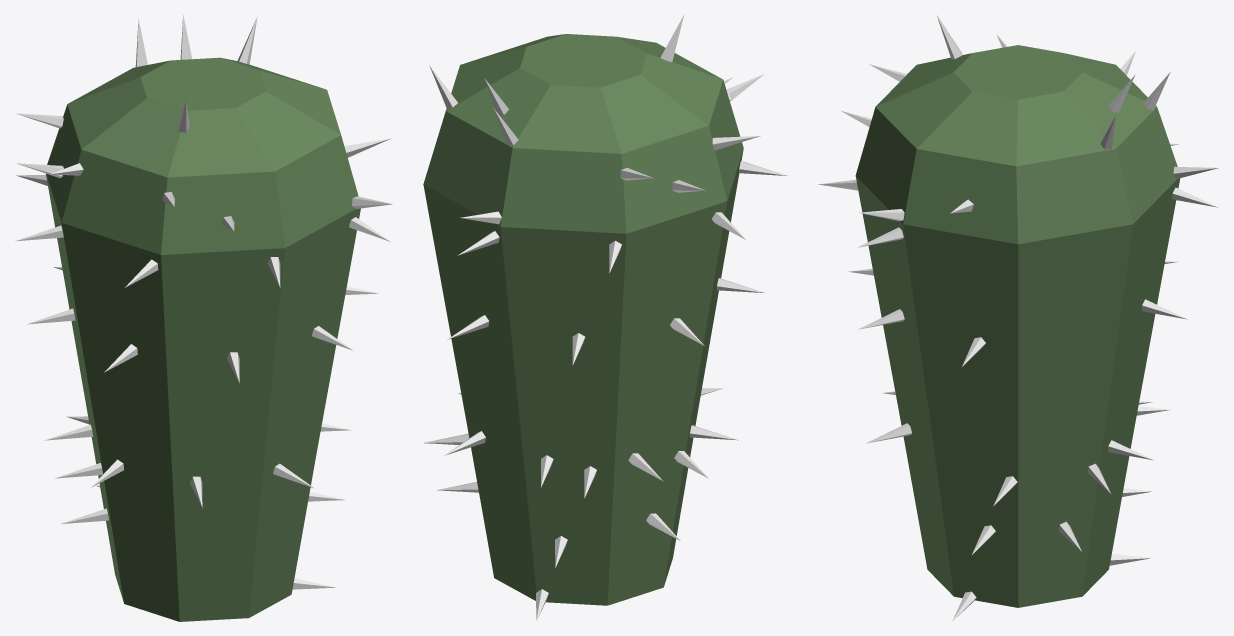
The model's file is Cactus.fbx.
3 views of the same model, side by side, from view 1: azimuth 30°, elevation 25°; view 2: azimuth 150°, elevation 25°; view 3: azimuth 270°, elevation 25° (orthographic).
Parts seen in each view (by area): view 1: Cactus; view 2: Cactus; view 3: Cactus.
Boxes of the visible parts, box(x1,y1,x2,y2) form: Cactus: box(46, 57, 360, 621); Cactus: box(423, 34, 743, 605); Cactus: box(855, 45, 1180, 607).
Bounding box in the file's own units: 101 × 156 × 107.
